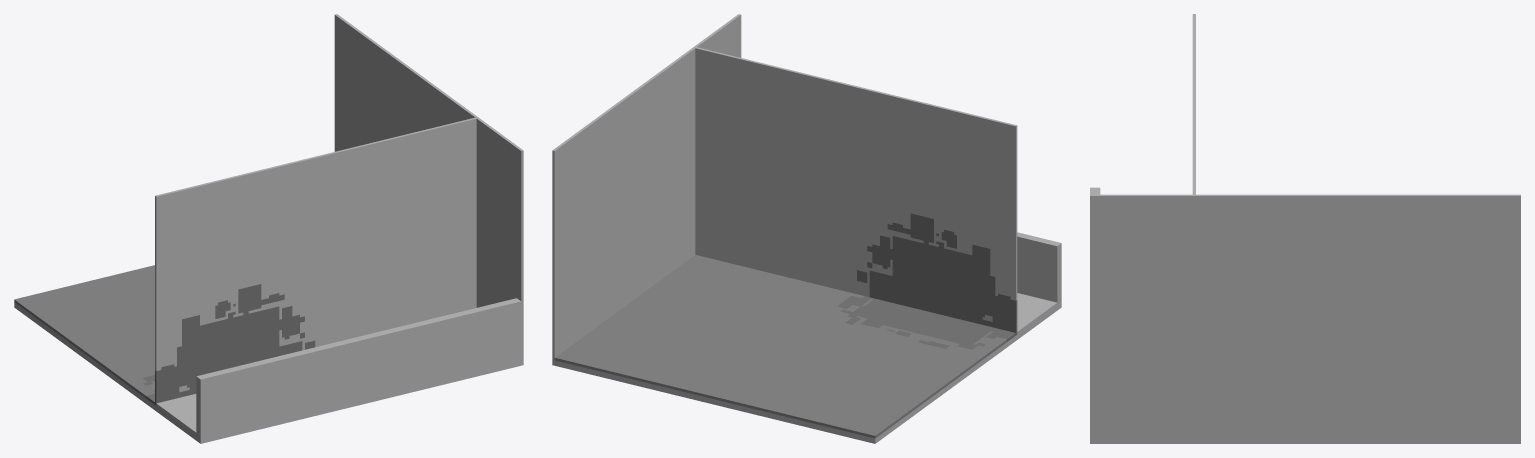
The model's file is 4x2 second (2)-7.obj.
3 views of the same model, side by side, from view 1: azimuth 30°, elevation 25°; view 2: azimuth 150°, elevation 25°; view 3: azimuth 270°, elevation 25° (orthographic). The views are drawn at different scales.
Visible parts, largest first — view 1: 4x2 second (2)-7; view 2: 4x2 second (2)-7; view 3: 4x2 second (2)-7.
Part boxes in pixels (box(x1,y1,x2,y2)): 4x2 second (2)-7: box(14, 14, 523, 443); 4x2 second (2)-7: box(552, 14, 1061, 443); 4x2 second (2)-7: box(1090, 14, 1520, 443).
Size of the model in its own units: 126 by 80 by 126.
Materials: 1 (1 with a texture image).
